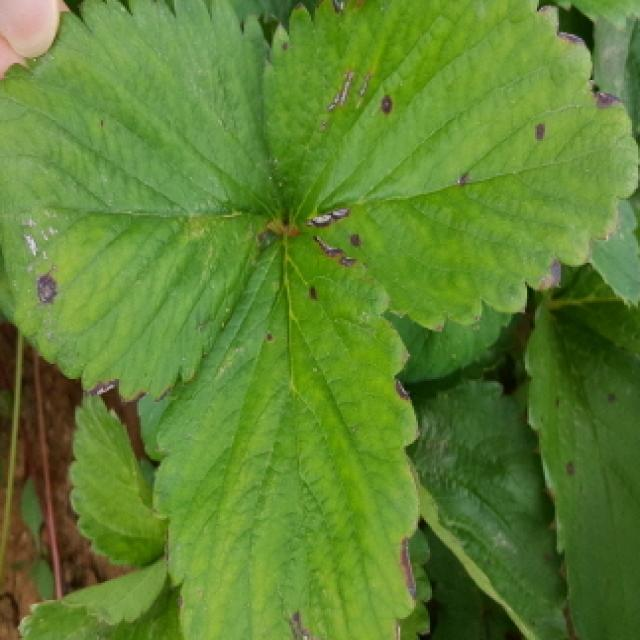Leaf Spot: (258, 0, 640, 332), (137, 225, 422, 640), (0, 0, 284, 404), (521, 306, 640, 640), (547, 192, 640, 367)
